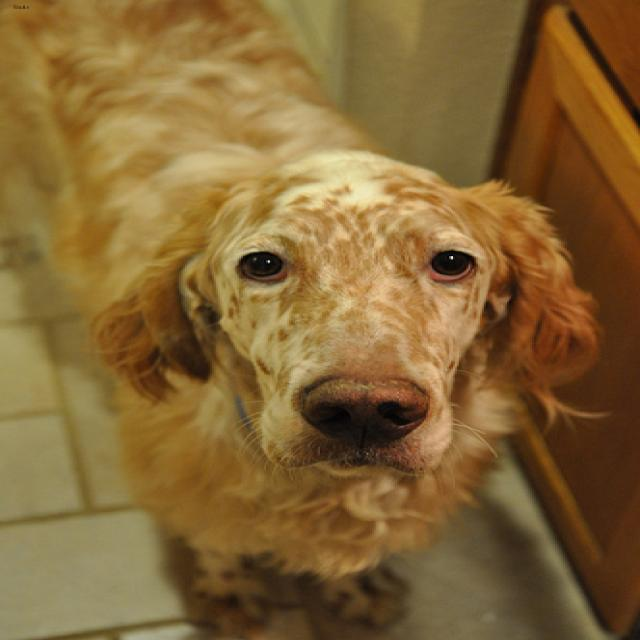dog-english_setter: (2, 1, 621, 637)
